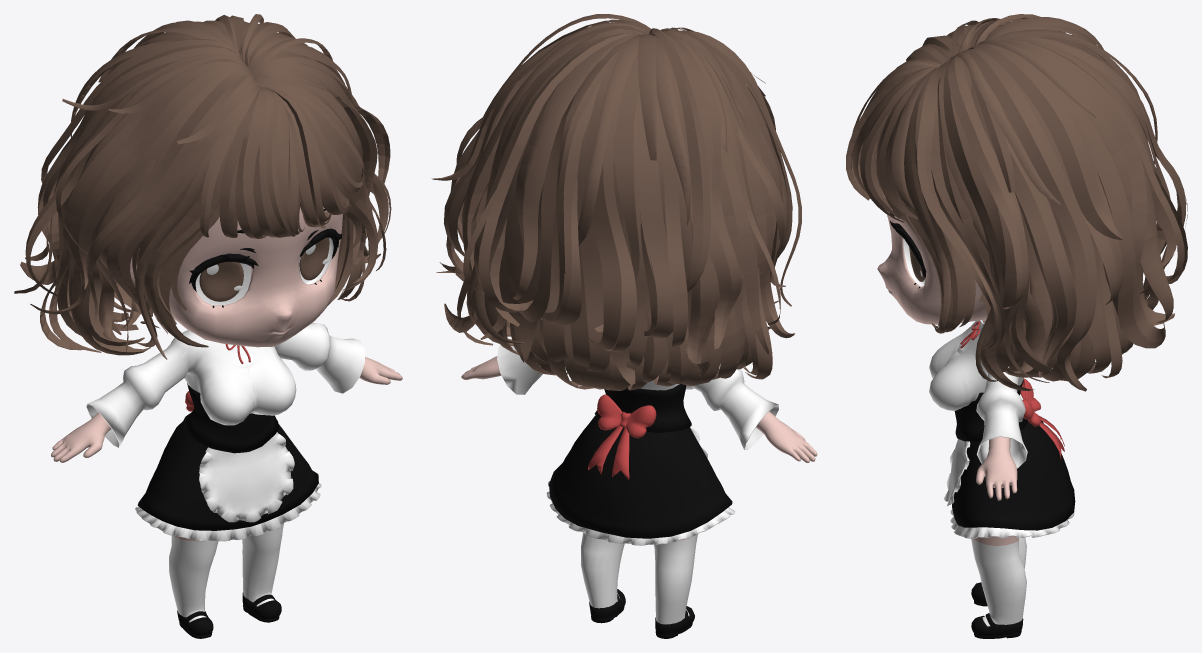
The model's file is Maid1 (1).fbx.
3 renders of one model, left to right at view 1: azimuth 30°, elevation 25°; view 2: azimuth 150°, elevation 25°; view 3: azimuth 270°, elevation 25°, orthographic.
Visible parts, largest first — view 1: Maid 1; view 2: Maid 1; view 3: Maid 1.
Boxes of the visible parts, box(x1,y1,x2,y2) form: Maid 1: box(14, 14, 402, 638); Maid 1: box(431, 14, 817, 638); Maid 1: box(846, 14, 1187, 638).
Size of the model in its own units: 83.72 by 134 by 70.56.
